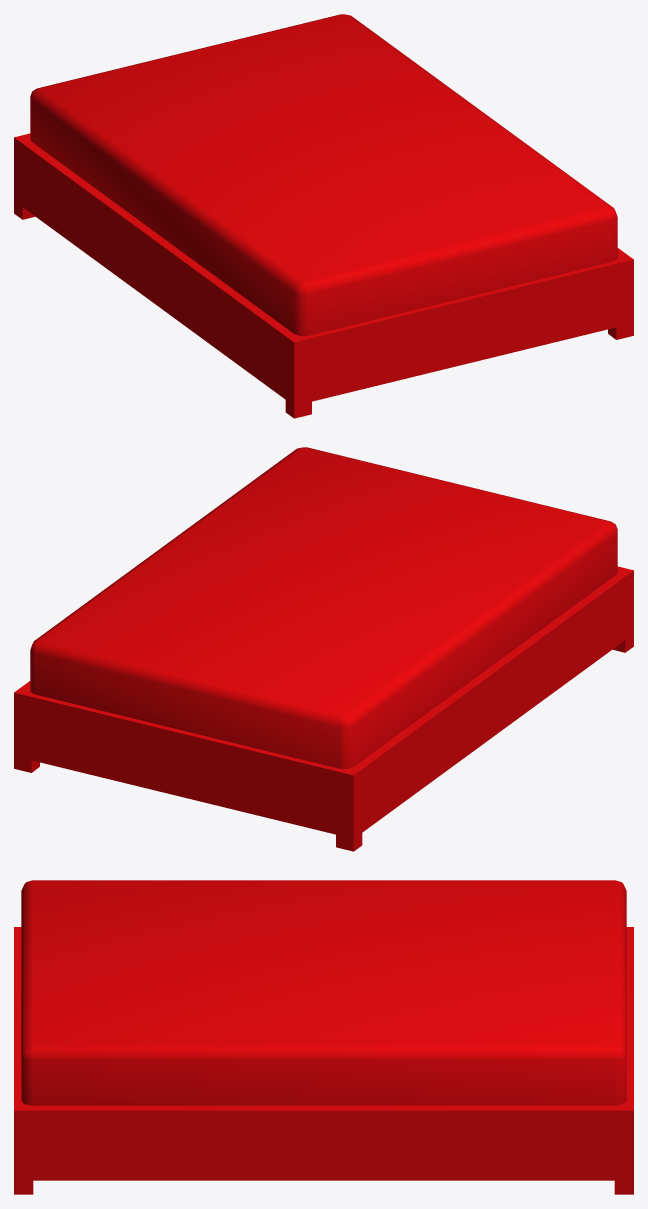
Rendered from Bed.fbx.
3 views of the same model, one above another, from view 1: azimuth 30°, elevation 25°; view 2: azimuth 150°, elevation 25°; view 3: azimuth 270°, elevation 25° (orthographic). The views are drawn at different scales.
Visible parts, largest first — view 1: Bed; view 2: Bed; view 3: Bed.
Boxes of the visible parts, <box> form: Bed: <box>14,14,633,418</box>; Bed: <box>14,447,633,851</box>; Bed: <box>14,880,633,1194</box>.
Size of the model in its own units: 140 by 50 by 200.
